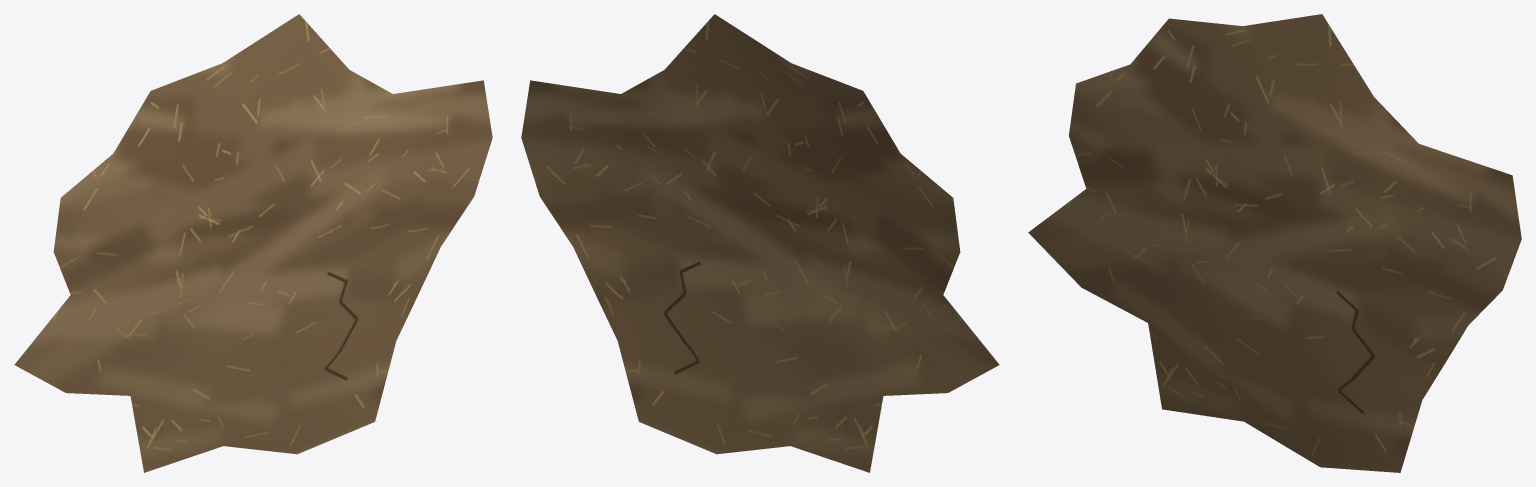
Rendered from SE_Patch_Daub.glb.
3 views of the same model, side by side, from view 1: azimuth 30°, elevation 25°; view 2: azimuth 150°, elevation 25°; view 3: azimuth 330°, elevation 25° (orthographic). The views are drawn at different scales.
Visible parts, largest first — view 1: SE_Patch_Daub; view 2: SE_Patch_Daub; view 3: SE_Patch_Daub.
Boxes of the visible parts, <box> form: SE_Patch_Daub: <box>14,14,492,472</box>; SE_Patch_Daub: <box>521,14,999,472</box>; SE_Patch_Daub: <box>1028,14,1521,472</box>.
Size of the model in its own units: 0.7216 by 0.6339 by 0.021.
1 material, 1 textured.
